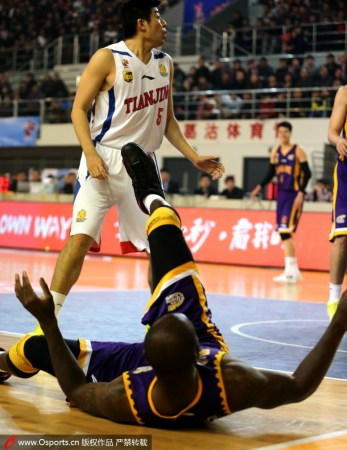10+: (4, 4, 347, 350)
down: (9, 141, 347, 431)
